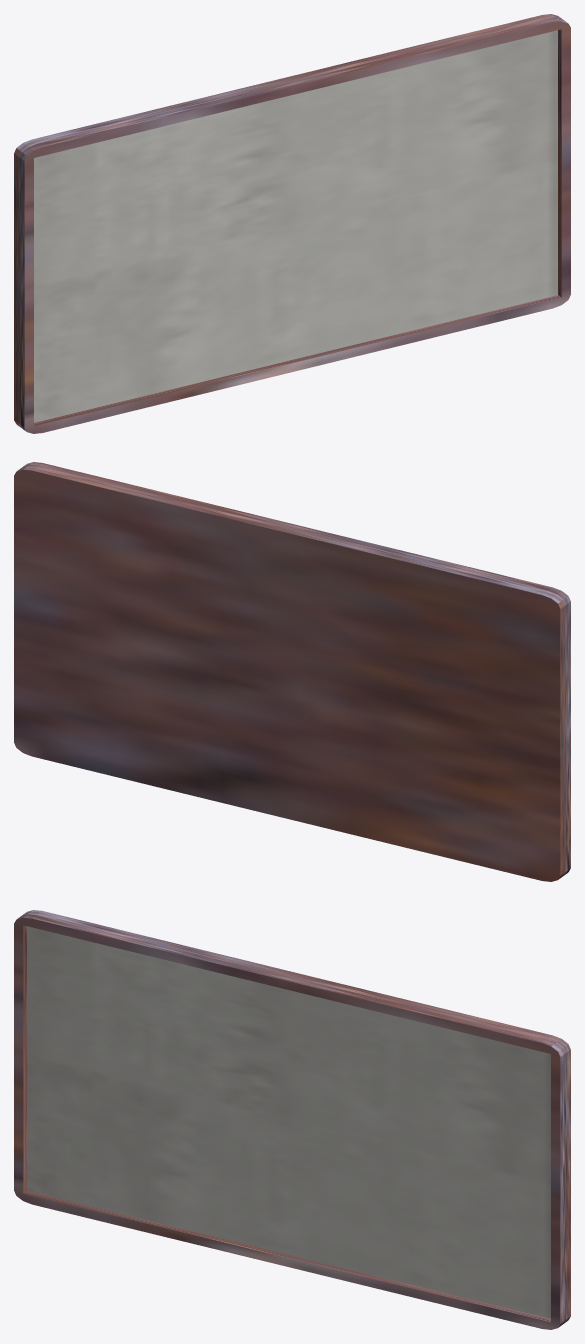
Rendered from BlackBoard .fbx.
The picture shows the model from 3 angles, top to bottom: view 1: azimuth 30°, elevation 25°; view 2: azimuth 150°, elevation 25°; view 3: azimuth 330°, elevation 25°; orthographic projection.
Visible parts, largest first — view 1: BlackBoard_; view 2: BlackBoard_; view 3: BlackBoard_.
Boxes of the visible parts, x1,y1,x2,y2 form: BlackBoard_: (14, 14, 570, 433); BlackBoard_: (14, 462, 570, 881); BlackBoard_: (14, 910, 570, 1329).
Size of the model in its own units: 600 by 300 by 20.
